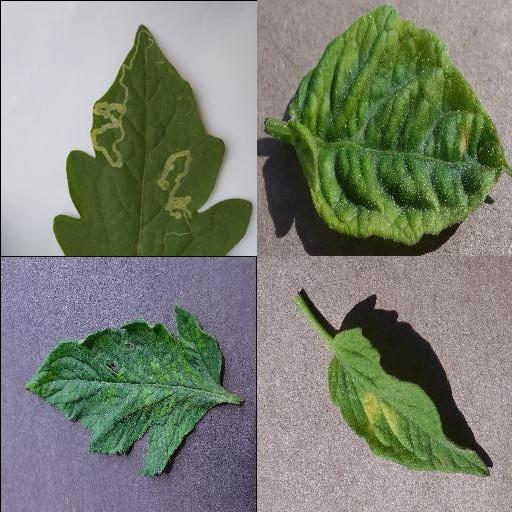Leaf Miner: (52, 20, 252, 256)
Leaf Mold: (328, 328, 490, 476)
Mosaic Virus: (24, 303, 222, 477)
Yellow Leaf Curl Virus: (288, 3, 512, 244)
